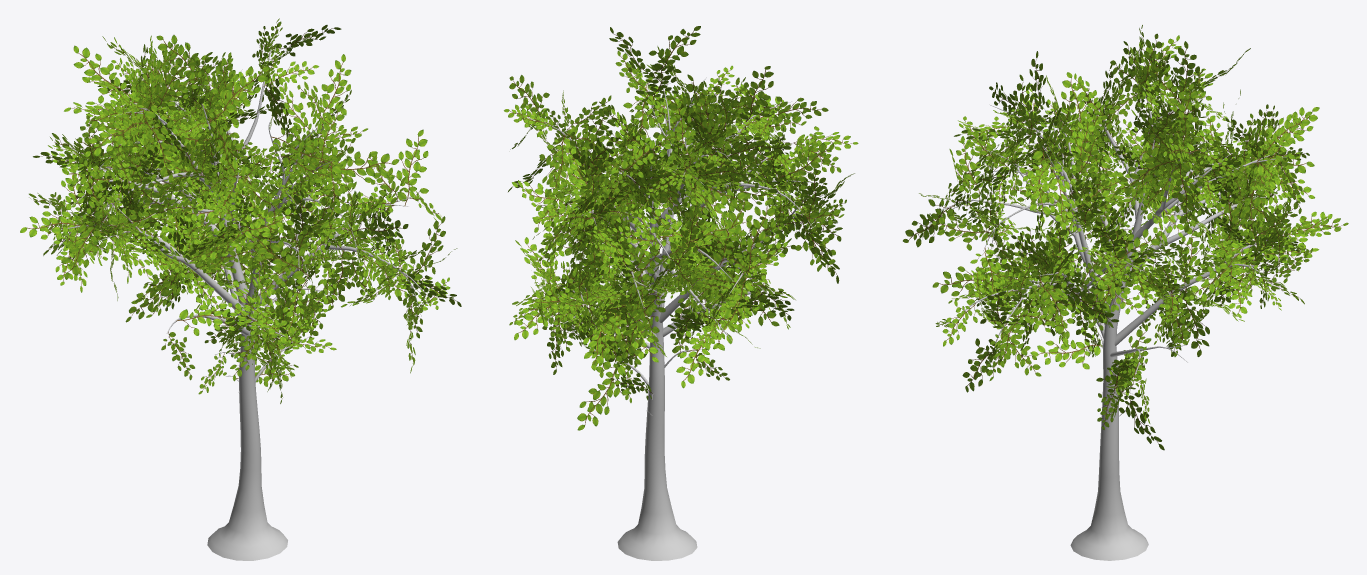
File: Tree3.fbx
The picture shows the model from 3 angles, left to right: view 1: azimuth 30°, elevation 25°; view 2: azimuth 150°, elevation 25°; view 3: azimuth 270°, elevation 25°; orthographic projection. The views are drawn at different scales.
Visible parts, largest first — view 1: Tree3_LOD0; view 2: Tree3_LOD0; view 3: Tree3_LOD0.
Part boxes in pixels (x1,y1,x2,y2): Tree3_LOD0: (20, 18, 461, 560); Tree3_LOD0: (504, 26, 858, 560); Tree3_LOD0: (903, 25, 1348, 560).
Bounding box in the file's own units: 434 × 476 × 559.
